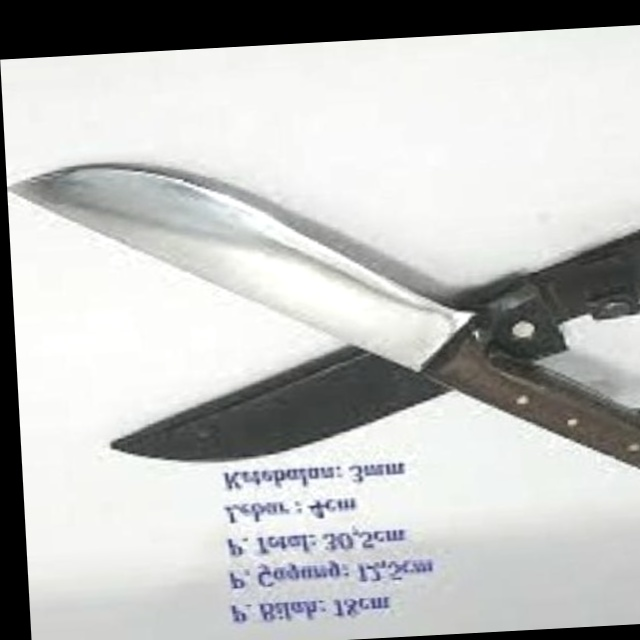Sharp-Object: (6, 133, 640, 500)
